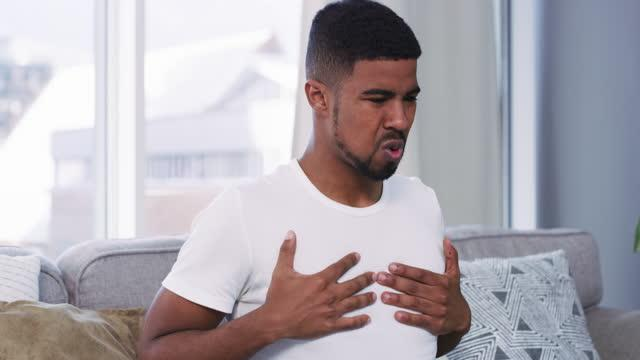pain: (355, 82, 426, 108)
